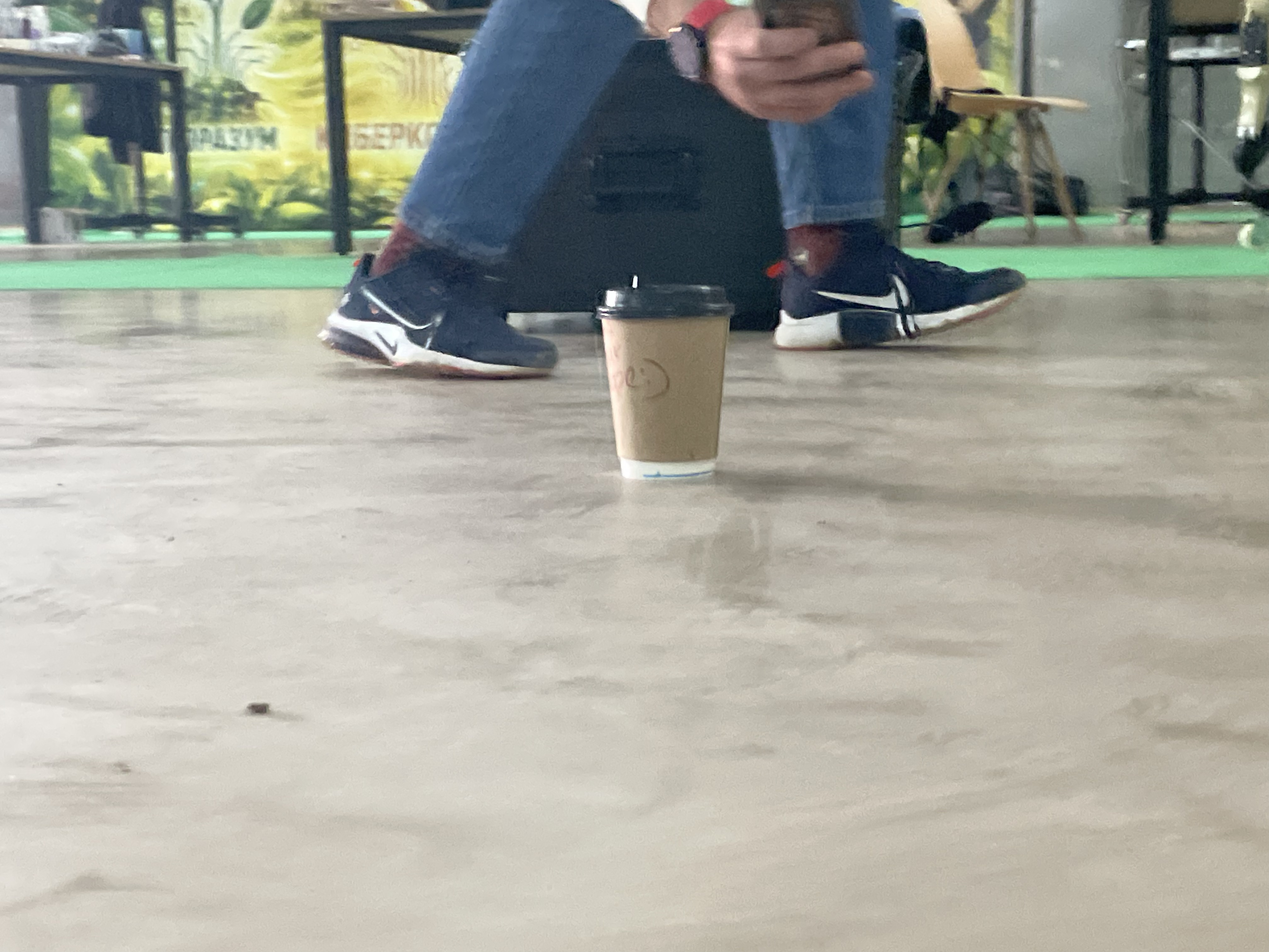cup: (598, 275, 729, 479)
